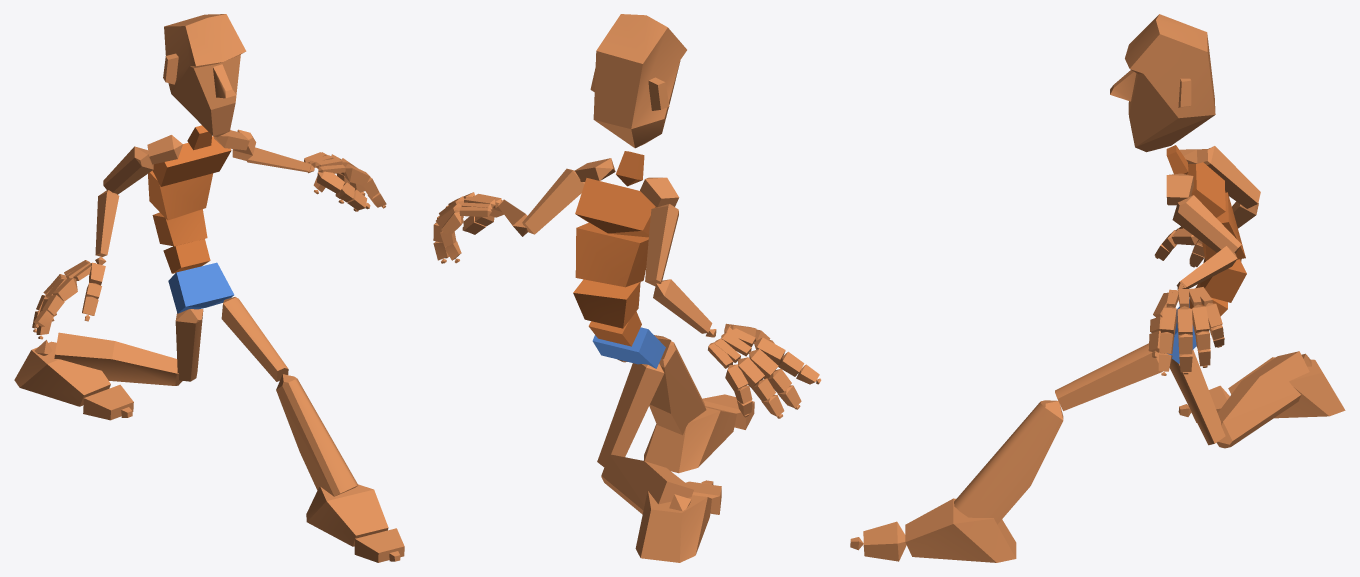
3 views of the same model, side by side, from view 1: azimuth 30°, elevation 25°; view 2: azimuth 150°, elevation 25°; view 3: azimuth 270°, elevation 25° (orthographic). The views are drawn at different scales.
Visible parts, largest first — view 1: BOPED_Head, BOPED_L_leg, BOPED_R_leg, BOPED_R_foot01, BOPED_R_foot, Bone01, BOPED_L_legup, Bone04, Bone05, BOPED_R_legup, Bone03, BOPED_R_arm_upper (+7 smaller); view 2: BOPED_Head, BOPED_R_foot, Bone04, BOPED_R_foot01, Bone05, BOPED_R_leg, BOPED_R_legup, BOPED_L_leg, Bone03, BOPED_R_arm_upper, BOPED_L_arm_upper, Bone01 (+8 smaller); view 3: BOPED_Head, BOPED_L_leg, BOPED_R_foot01, BOPED_R_leg, BOPED_L_legup, BOPED_R_foot, BOPED_R_legup, BOPED_L_arm_upper, BOPED_R_arm_upper, Bone05, BOPED_R_foot_toe04, Bone03 (+3 smaller).
Part boxes in pixels (x1=…): BOPED_Head: x1=163, y1=14, x2=246, y2=137; BOPED_L_leg: x1=276, y1=374, x2=358, y2=496; BOPED_R_leg: x1=54, y1=332, x2=182, y2=385; BOPED_R_foot01: x1=306, y1=484, x2=388, y2=546; BOPED_R_foot: x1=14, y1=341, x2=110, y2=406; Bone01: x1=168, y1=262, x2=234, y2=313; BOPED_L_legup: x1=221, y1=297, x2=288, y2=381; Bone04: x1=148, y1=170, x2=212, y2=220; Bone05: x1=152, y1=136, x2=231, y2=186; BOPED_R_legup: x1=175, y1=309, x2=203, y2=381; Bone03: x1=152, y1=209, x2=207, y2=246; BOPED_R_arm_upper: x1=103, y1=146, x2=153, y2=194; BOPED_Head: x1=590, y1=14, x2=686, y2=148; BOPED_R_foot: x1=635, y1=491, x2=711, y2=562; Bone04: x1=575, y1=223, x2=648, y2=287; BOPED_R_foot01: x1=643, y1=406, x2=736, y2=473; Bone05: x1=575, y1=178, x2=656, y2=237; BOPED_R_leg: x1=601, y1=454, x2=693, y2=514; BOPED_R_legup: x1=597, y1=363, x2=664, y2=467; BOPED_L_leg: x1=649, y1=341, x2=706, y2=435; Bone03: x1=573, y1=279, x2=640, y2=328; BOPED_R_arm_upper: x1=645, y1=204, x2=678, y2=286; BOPED_L_arm_upper: x1=522, y1=168, x2=584, y2=234; Bone01: x1=592, y1=327, x2=665, y2=368; BOPED_Head: x1=1110, y1=14, x2=1215, y2=152; BOPED_L_leg: x1=954, y1=400, x2=1063, y2=524; BOPED_R_foot01: x1=905, y1=498, x2=1016, y2=562; BOPED_R_leg: x1=1216, y1=351, x2=1309, y2=448; BOPED_L_legup: x1=1055, y1=343, x2=1163, y2=410; BOPED_R_foot: x1=1228, y1=357, x2=1345, y2=418; BOPED_R_legup: x1=1169, y1=350, x2=1225, y2=445; BOPED_L_arm_upper: x1=1172, y1=195, x2=1241, y2=253; BOPED_R_arm_upper: x1=1203, y1=146, x2=1260, y2=208; Bone05: x1=1187, y1=162, x2=1225, y2=217; BOPED_R_foot_toe04: x1=863, y1=521, x2=906, y2=561; Bone03: x1=1200, y1=257, x2=1246, y2=302.
Size of the model in its own units: 130 by 165 by 147.
